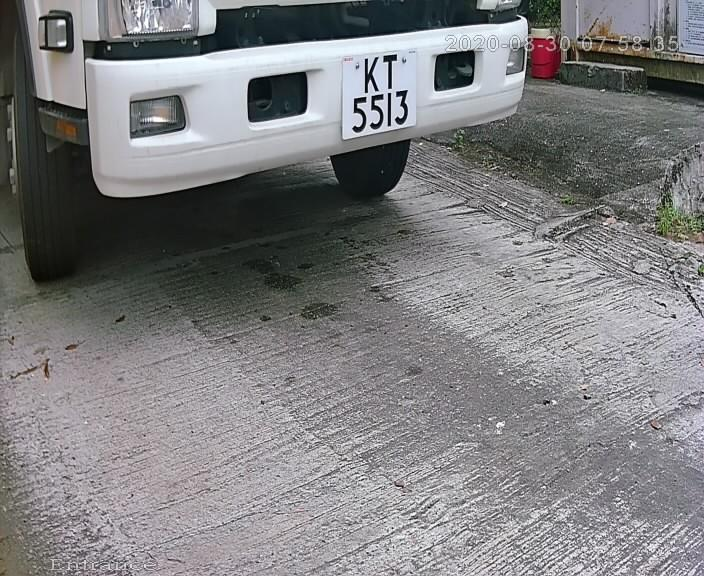Car: (10, 3, 538, 276)
License Plate: (312, 34, 428, 160)
